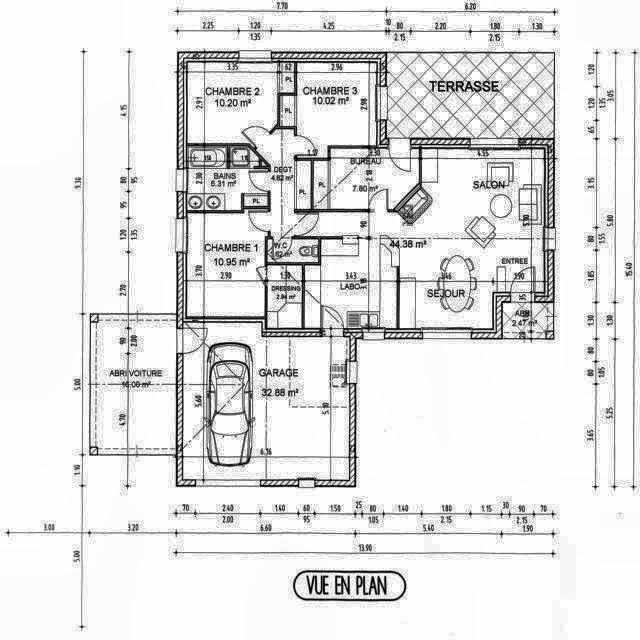room: (296, 148, 544, 328), (183, 322, 349, 480), (96, 320, 176, 449), (187, 62, 294, 149), (187, 208, 267, 316), (304, 238, 398, 329), (297, 63, 377, 158), (313, 148, 418, 209), (257, 129, 311, 235), (187, 146, 268, 210), (267, 265, 302, 328), (503, 303, 547, 332), (268, 239, 318, 262), (280, 95, 294, 127)
